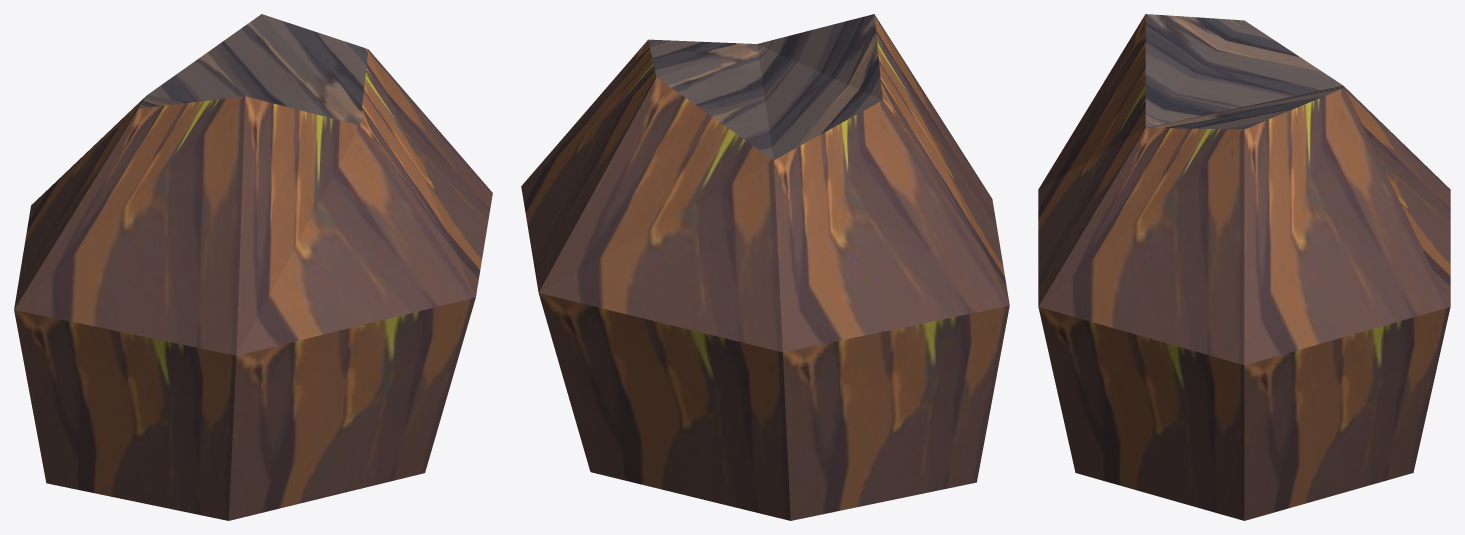
Rendered from SM_RC_Terrain_Rock_Medium_B.gltf.
3 views of the same model, side by side, from view 1: azimuth 30°, elevation 25°; view 2: azimuth 150°, elevation 25°; view 3: azimuth 270°, elevation 25° (orthographic). The views are drawn at different scales.
Parts seen in each view (by area): view 1: SM_RC_Terrain_Rock_Medium_B; view 2: SM_RC_Terrain_Rock_Medium_B; view 3: SM_RC_Terrain_Rock_Medium_B.
Boxes of the visible parts, box(x1,y1,x2,y2) form: SM_RC_Terrain_Rock_Medium_B: box(14, 14, 492, 520); SM_RC_Terrain_Rock_Medium_B: box(521, 14, 1009, 520); SM_RC_Terrain_Rock_Medium_B: box(1038, 14, 1450, 520).
Size of the model in its own units: 3.5 by 2.7 by 2.6.
1 material, 1 textured.
